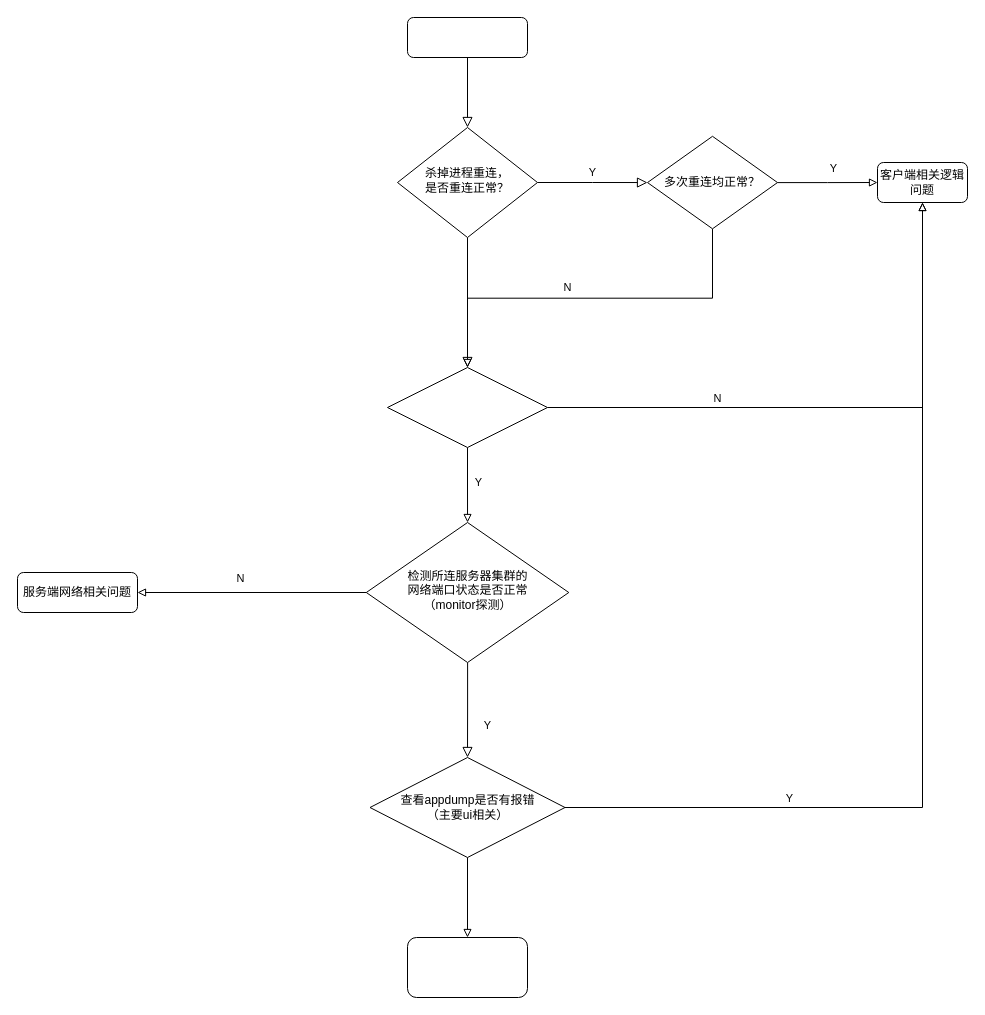
Image size: 985x1015. Some labels were removed from this diagram. The box of each missing label's shape, as (x1, y1, x2, y2) in pixels:
客户端显示黑屏: (406, 16, 528, 58)
服务器相关逻辑问题: (406, 936, 528, 998)
检查下客户端本地 网络是否正常？: (386, 366, 548, 448)
